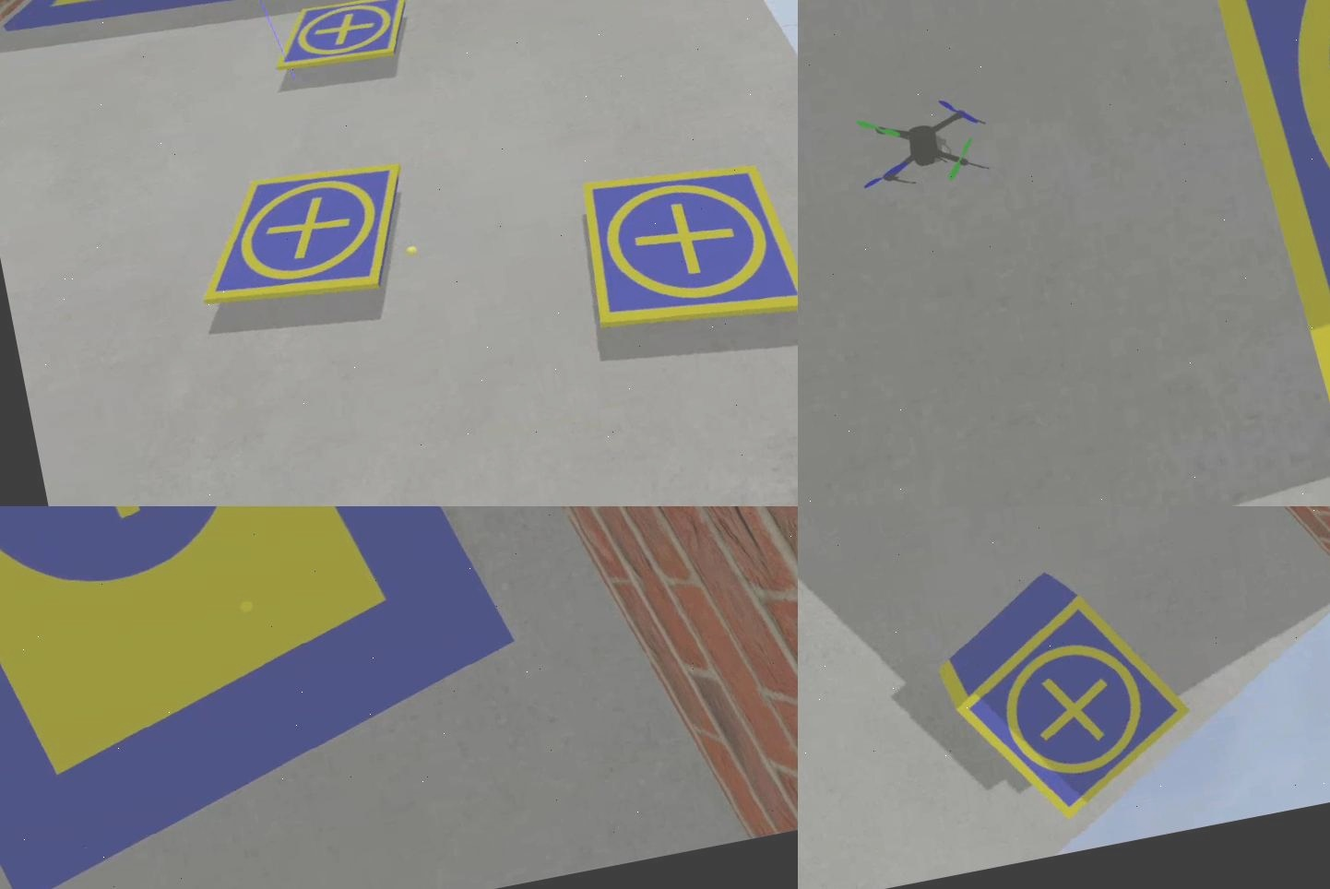large_base: (1, 506, 543, 889), (1, 1, 331, 50)
small_base: (1172, 1, 1330, 433), (946, 584, 1202, 834), (570, 142, 798, 350), (182, 150, 423, 323), (269, 1, 421, 82)
